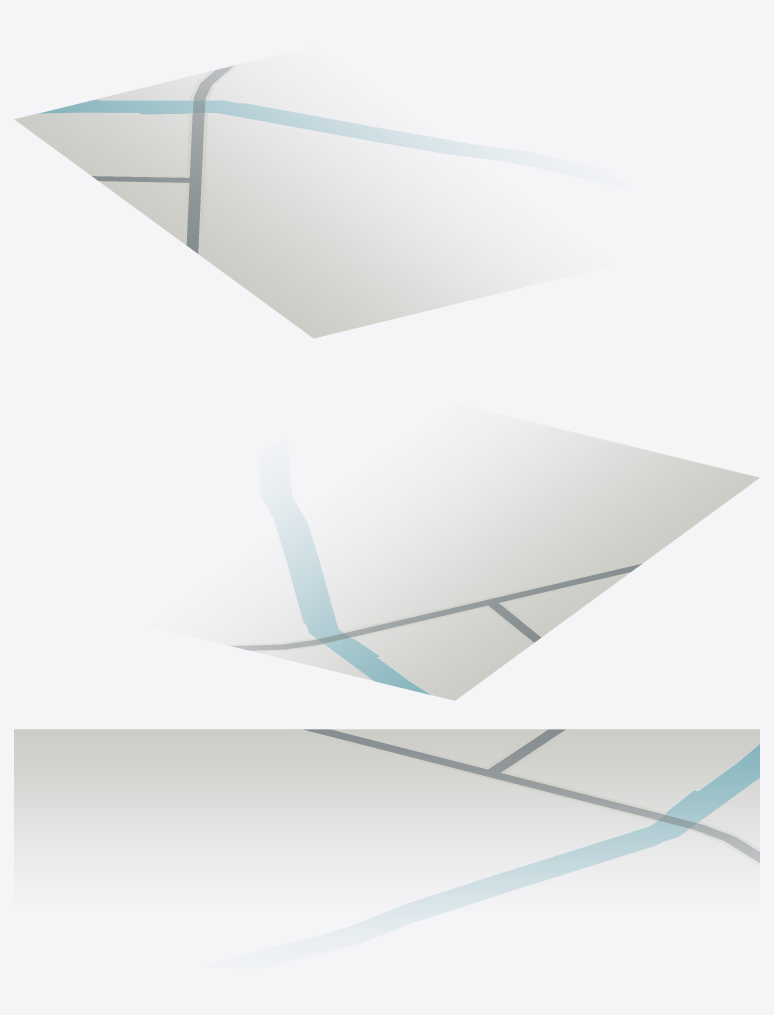
3 renders of one model, top to bottom at view 1: azimuth 30°, elevation 25°; view 2: azimuth 150°, elevation 25°; view 3: azimuth 270°, elevation 25°, orthographic. The views are drawn at different scales.
Parts seen in each view (by area): view 1: city; view 2: city; view 3: city.
Boxes of the visible parts, x1,y1,x2,y2 form: city: (14,61,551,338); city: (213,419,759,700); city: (14,729,759,921).
Size of the model in its own units: 430 by 0.4 by 500.
